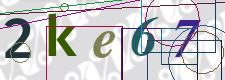2: (3, 16, 33, 60)
6: (129, 15, 161, 58)
7: (173, 17, 202, 59)
e: (92, 28, 117, 61)
k: (45, 11, 78, 59)
